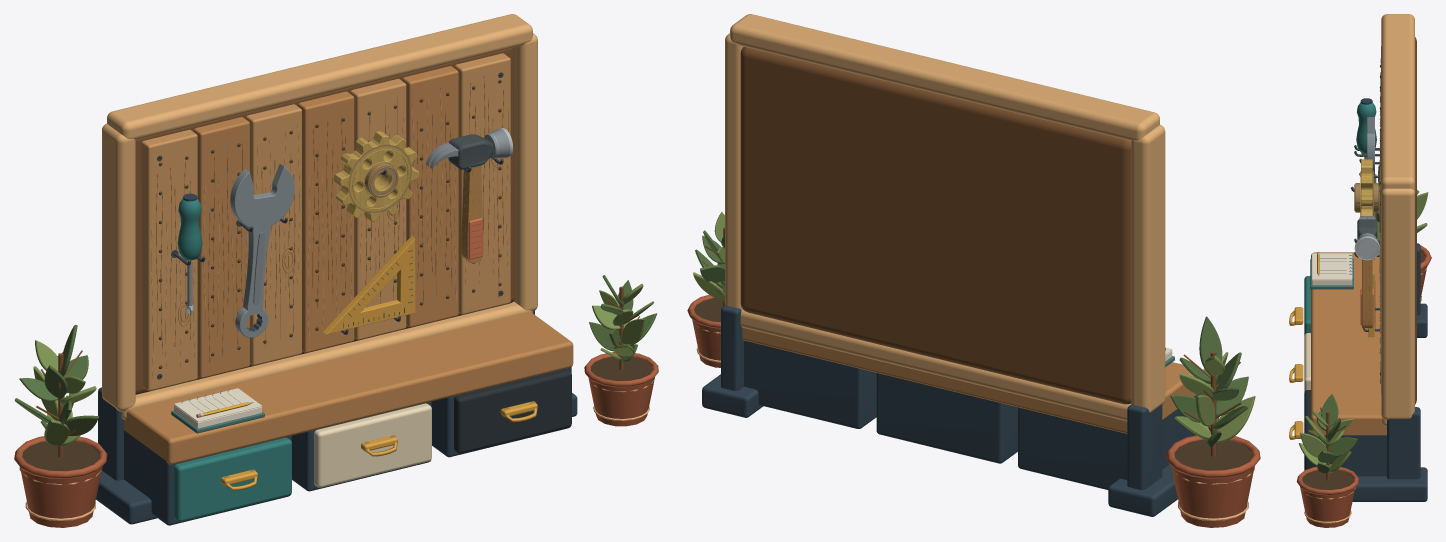
Rendered from workshop-tool-rack-final.glb.
3 views of the same model, side by side, from view 1: azimuth 30°, elevation 25°; view 2: azimuth 150°, elevation 25°; view 3: azimuth 270°, elevation 25° (orthographic). The views are drawn at different scales.
Visible parts, largest first — view 1: timber, plank, Refined_Frame_Top, navy, Refined_Frame_Side_-069, cream, teal, Refined_Grey_Drawer, Refined_Frame_Side_069, grain, Refined_Frame_Bottom, brass_2 (+13 smaller); view 2: darkWood, navy, Refined_Frame_Top, Refined_Frame_Side_-069, Refined_Frame_Bottom, timber, pot, Refined_Frame_Side_069, soil, pot_1, Leaf_8, Leaf_1; view 3: timber, Refined_Frame_Side_069, navy, Refined_Frame_Top, pot_1, brass_2, Notebook_element_3, soil_1, Wood_Handle, darkWood, Refined_Original_Yellow_Handles, Teal_Handle (+17 smaller).
Part boxes in pixels (<box>): timber: <box>124,66,573,464</box>; plank: <box>141,53,510,390</box>; Refined_Frame_Top: <box>107,14,532,139</box>; navy: <box>96,311,577,525</box>; Refined_Frame_Side_-069: <box>102,123,135,411</box>; cream: <box>314,403,431,487</box>; teal: <box>174,437,291,521</box>; Refined_Grey_Drawer: <box>454,369,571,453</box>; Refined_Frame_Side_069: <box>513,33,537,311</box>; grain: <box>156,76,503,363</box>; Refined_Frame_Bottom: <box>121,301,532,419</box>; brass_2: <box>333,131,419,221</box>; darkWood: <box>740,46,1131,404</box>; navy: <box>702,305,1198,516</box>; Refined_Frame_Top: <box>730,14,1159,140</box>; Refined_Frame_Side_-069: <box>1131,125,1165,412</box>; Refined_Frame_Bottom: <box>740,309,1131,421</box>; timber: <box>742,327,1196,433</box>; pot: <box>1166,435,1260,527</box>; Refined_Frame_Side_069: <box>725,33,743,309</box>; soil: <box>1174,439,1252,470</box>; pot_1: <box>687,294,720,367</box>; Leaf_8: <box>1199,316,1222,377</box>; Leaf_1: <box>1216,396,1255,442</box>; timber: <box>1311,68,1386,435</box>; Refined_Frame_Side_069: <box>1381,188,1414,420</box>; navy: <box>1314,243,1427,501</box>; Refined_Frame_Top: <box>1381,14,1414,189</box>; pot_1: <box>1296,466,1359,527</box>; brass_2: <box>1354,159,1379,216</box>; Notebook_element_3: <box>1312,253,1352,280</box>; soil_1: <box>1302,470,1353,489</box>; Wood_Handle: <box>1362,259,1372,328</box>; darkWood: <box>1414,37,1416,404</box>; Refined_Original_Yellow_Handles: <box>1289,307,1303,439</box>; Teal_Handle: <box>1356,102,1376,153</box>.
Size of the model in its own units: 2.04 by 1.25 by 0.5082.
61 materials, 1 textured.
